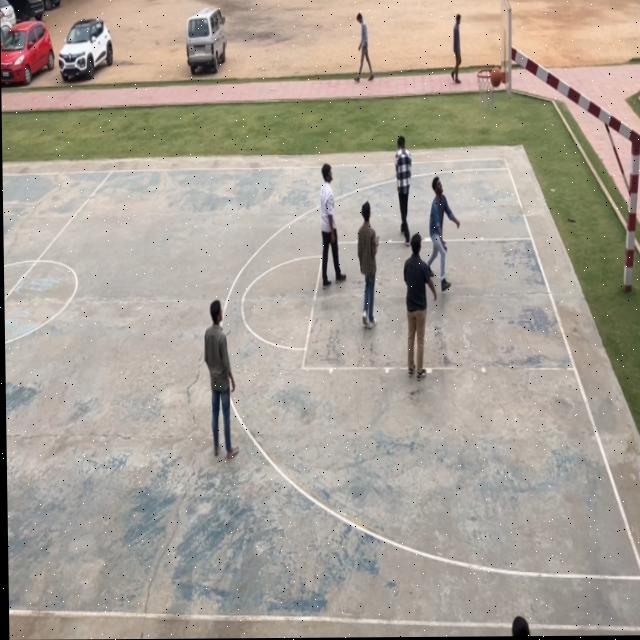basketball: (490, 65, 502, 88)
hoop: (475, 63, 497, 112)
